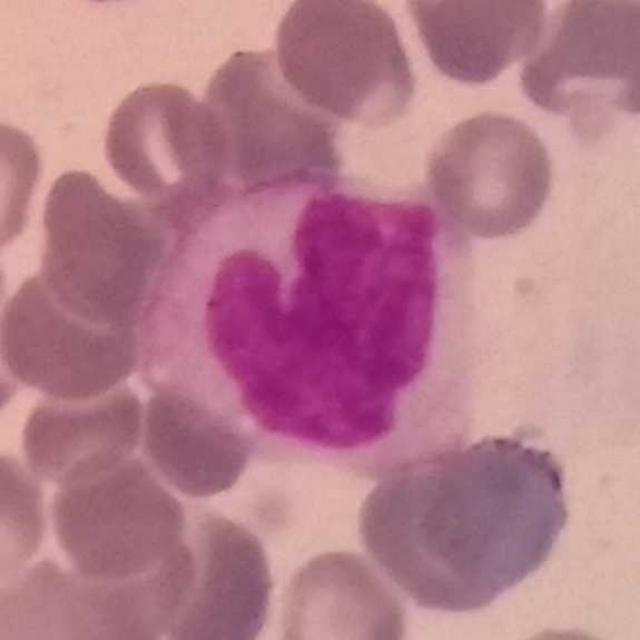Monocyte: (145, 167, 487, 480)
RBC: (358, 428, 581, 614), (32, 160, 168, 323), (0, 257, 147, 405), (189, 44, 340, 188), (44, 448, 190, 584), (421, 104, 561, 243), (267, 0, 419, 124), (144, 502, 280, 639), (97, 74, 234, 210), (514, 1, 640, 138), (15, 366, 149, 488), (134, 375, 256, 503), (268, 543, 413, 640), (398, 0, 554, 89), (1, 554, 104, 640), (0, 445, 53, 588), (0, 112, 48, 265)
